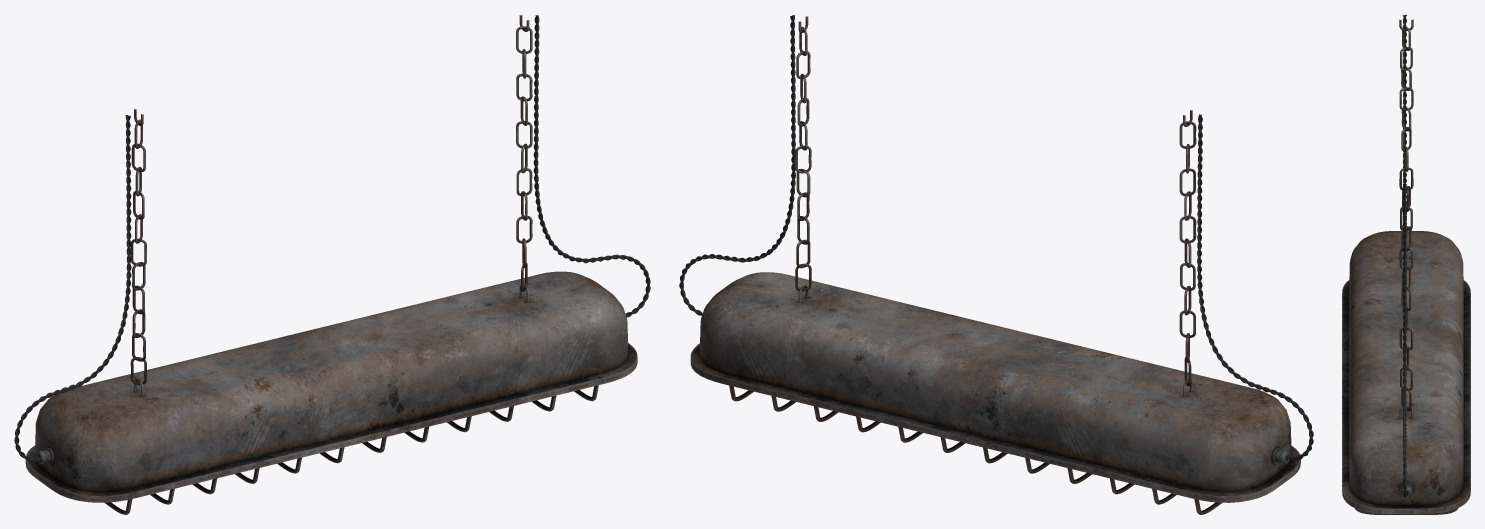
File: fluorescent_lamplight_-_4096px2.glb
The picture shows the model from 3 angles, left to right: view 1: azimuth 30°, elevation 25°; view 2: azimuth 150°, elevation 25°; view 3: azimuth 270°, elevation 25°; orthographic projection. The views are drawn at different scales.
Visible parts, largest first — view 1: Fluorescent Lamp; view 2: Fluorescent Lamp; view 3: Fluorescent Lamp.
Part boxes in pixels (x1=…): Fluorescent Lamp: x1=14, y1=15, x2=650, y2=514; Fluorescent Lamp: x1=679, y1=15, x2=1313, y2=514; Fluorescent Lamp: x1=1342, y1=15, x2=1470, y2=514.
Bounding box in the file's own units: 1.57 × 0.8872 × 0.3242.
1 material, 1 textured.
